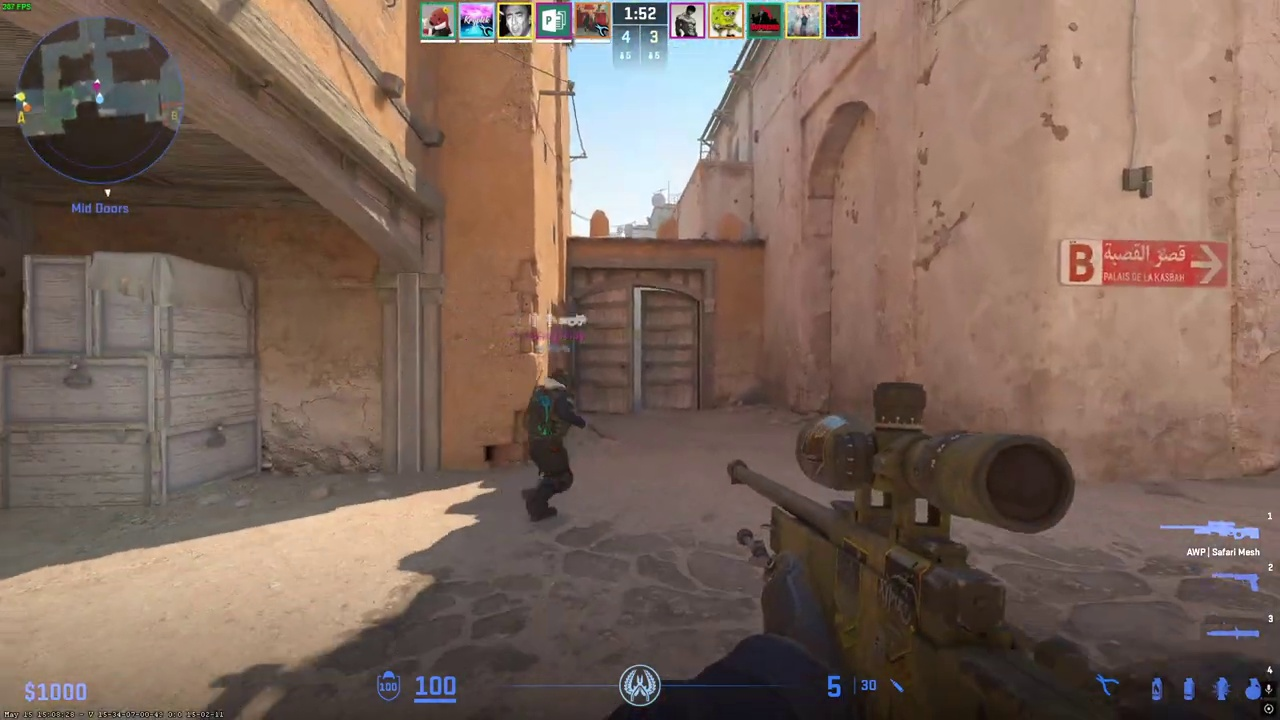CT: (522, 368, 580, 521)
